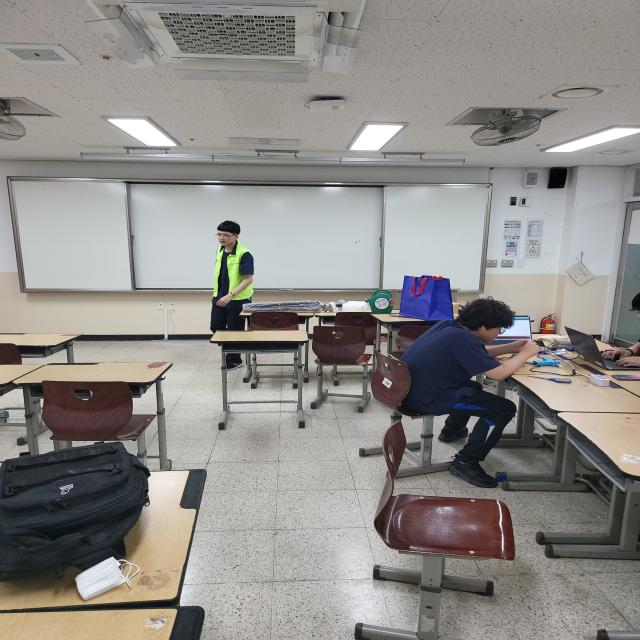weston_spy: (212, 250, 251, 304)
